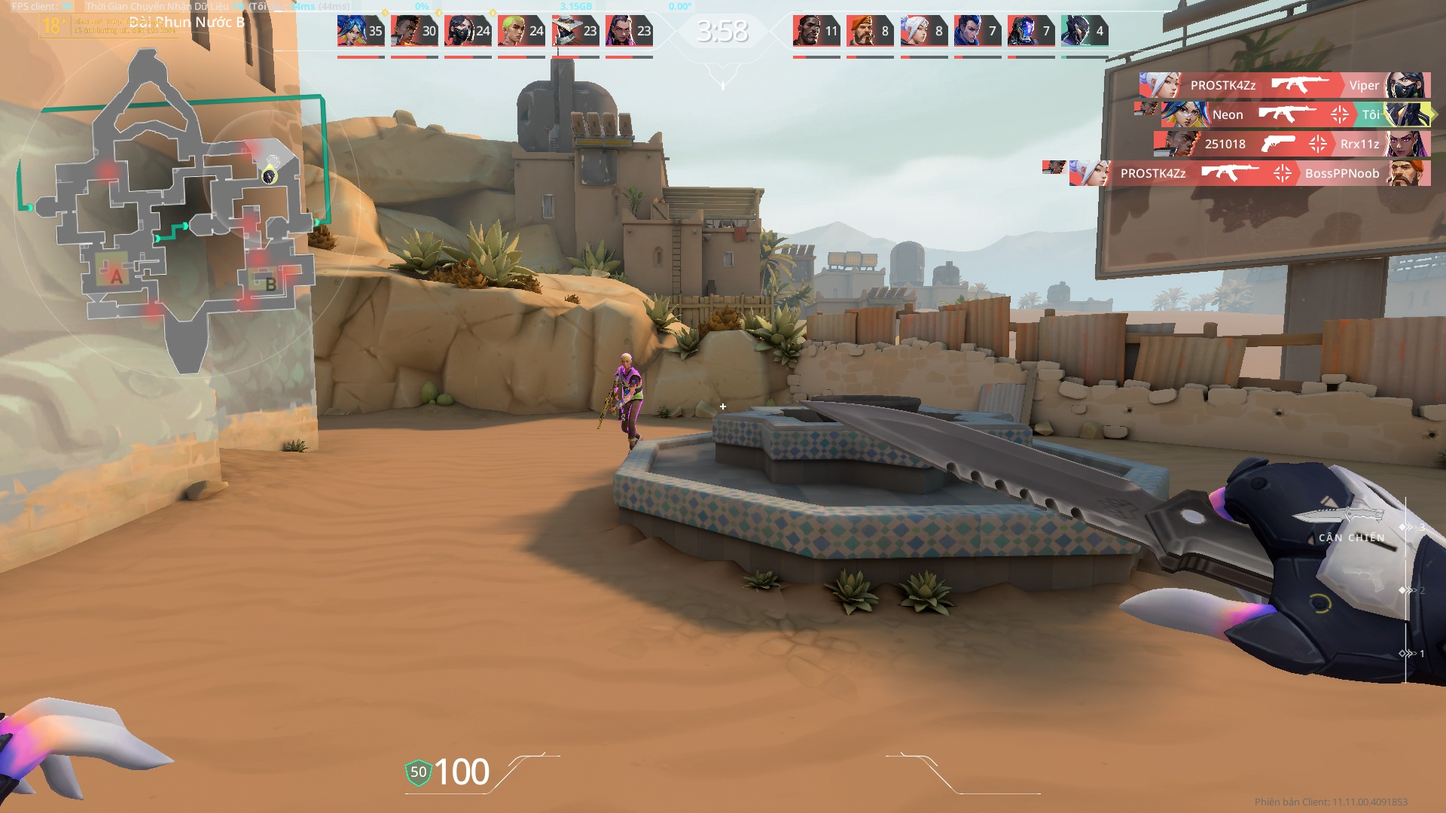body: (613, 365, 643, 406)
head: (618, 352, 634, 370)
